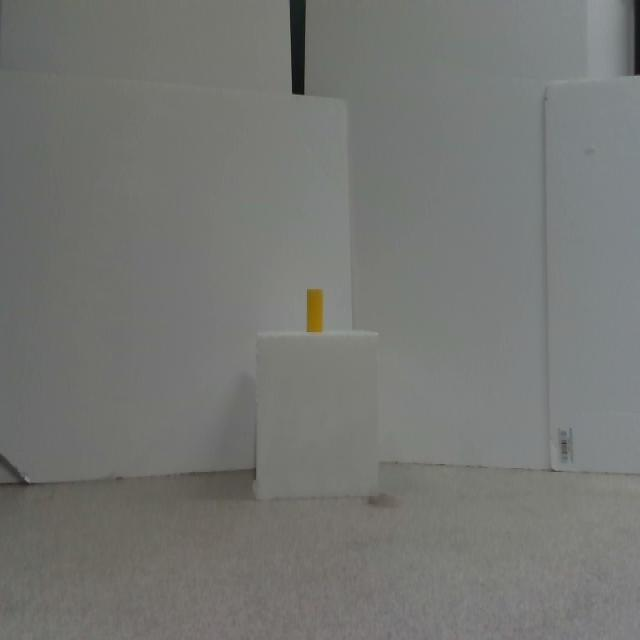yellow_cylinder: (306, 288, 324, 334)
